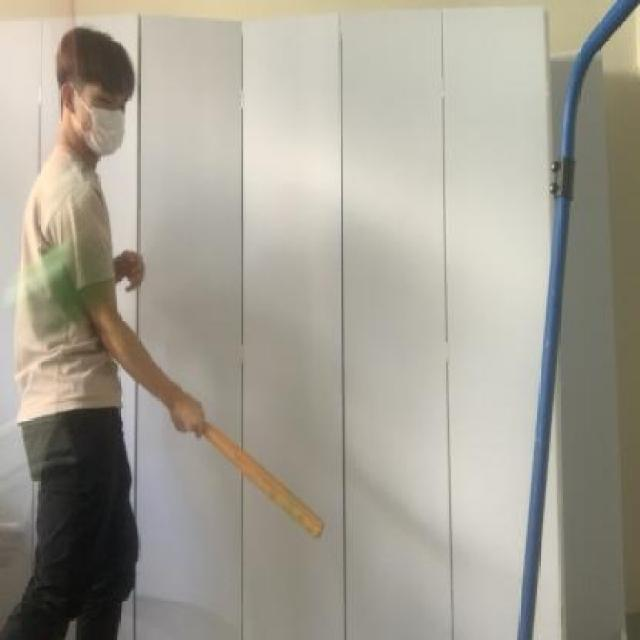baseball: (0, 218, 122, 360)
